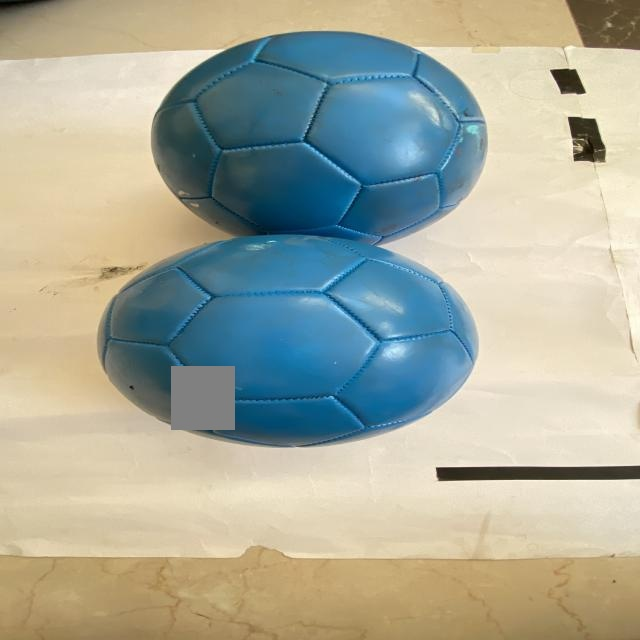blue_ball: (110, 238, 478, 440), (154, 32, 491, 241)
